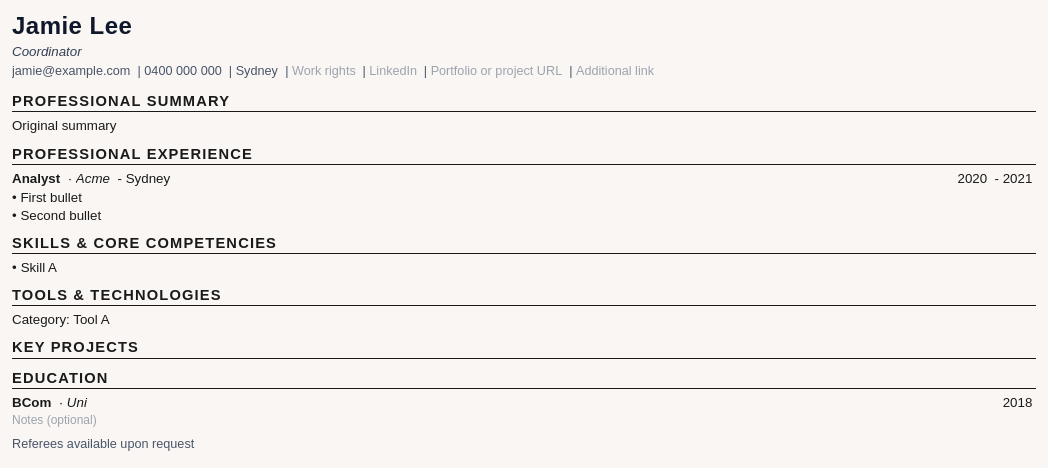
BaseResumeTemplate - editable canvas path › shows only the bullet's own toolbar when a bullet is hovered, not the parent role's too
Hover over the list item named "Bullet point" at [47, 198], box x1=12 y1=190 x2=82 y2=205
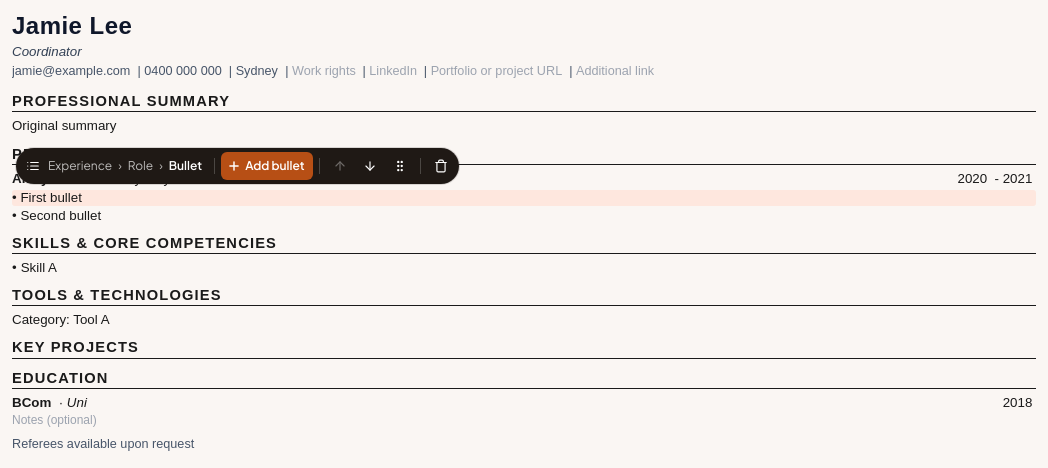
Result: the button named "Remove bullet" is shown at x1=427 y1=152 x2=455 y2=180
Result: the number of buttons named "Drag to reorder" is 1 at x1=386 y1=152 x2=414 y2=180
